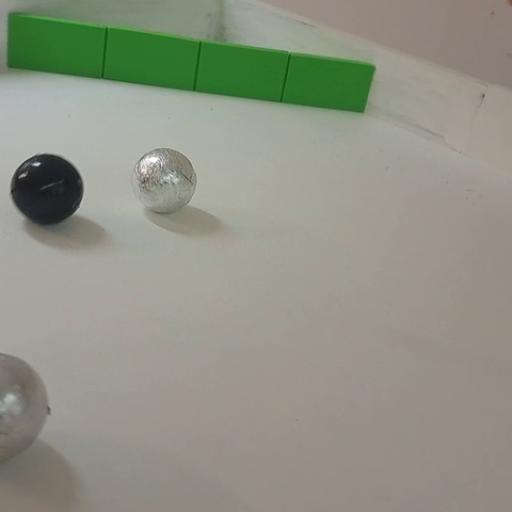alive: (0, 351, 50, 469), (130, 147, 199, 213)
dead: (9, 152, 86, 225)
